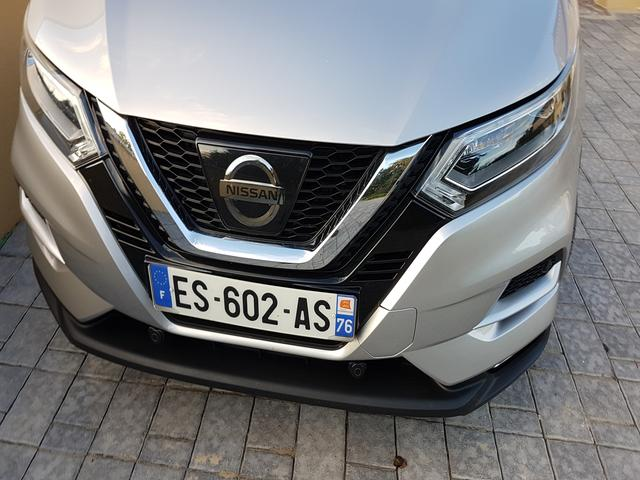Quashquai: (138, 234, 372, 358)
